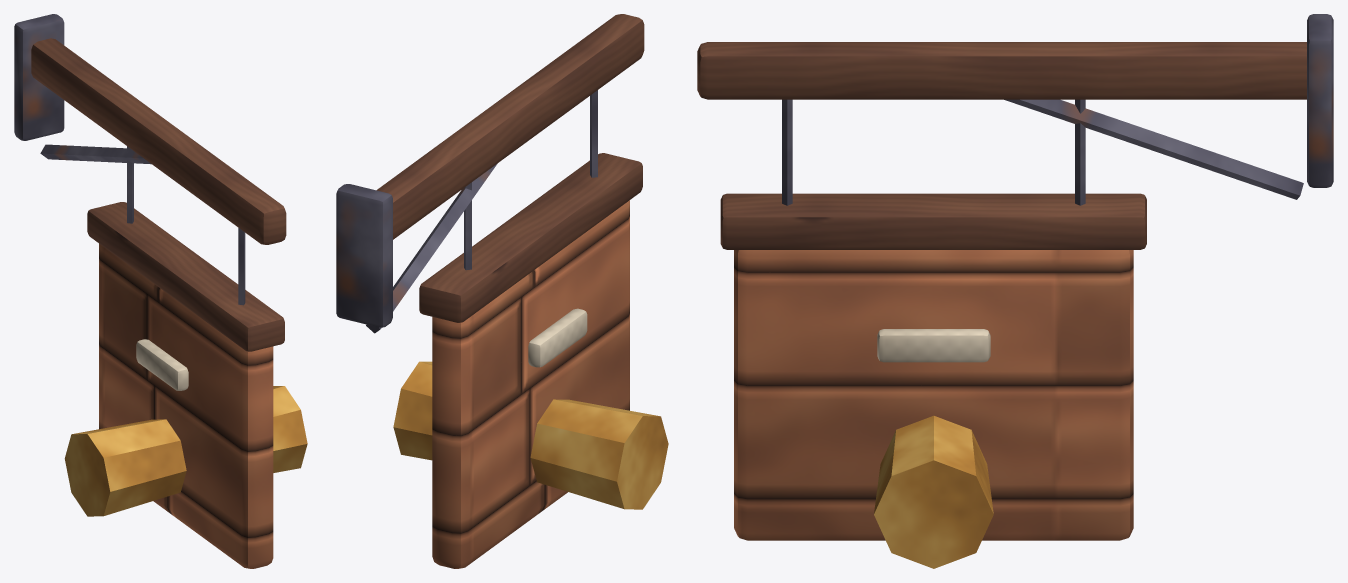
The model's file is tavern_sign.gltf.
The picture shows the model from 3 angles, left to right: view 1: azimuth 30°, elevation 25°; view 2: azimuth 150°, elevation 25°; view 3: azimuth 270°, elevation 25°; orthographic projection. The views are drawn at different scales.
Visible parts, largest first — view 1: ANIM_sign, tavern_sign_mesh; view 2: ANIM_sign, tavern_sign_mesh; view 3: ANIM_sign, tavern_sign_mesh.
Boxes of the visible parts, box(x1,y1,x2,y2) form: ANIM_sign: box(64, 146, 307, 568); tavern_sign_mesh: box(14, 14, 286, 244); ANIM_sign: box(393, 90, 668, 568); tavern_sign_mesh: box(336, 14, 644, 333); ANIM_sign: box(720, 99, 1146, 568); tavern_sign_mesh: box(697, 14, 1333, 199).
Size of the model in its own units: 0.45 by 0.845 by 0.955.
5 materials, 5 textured.
